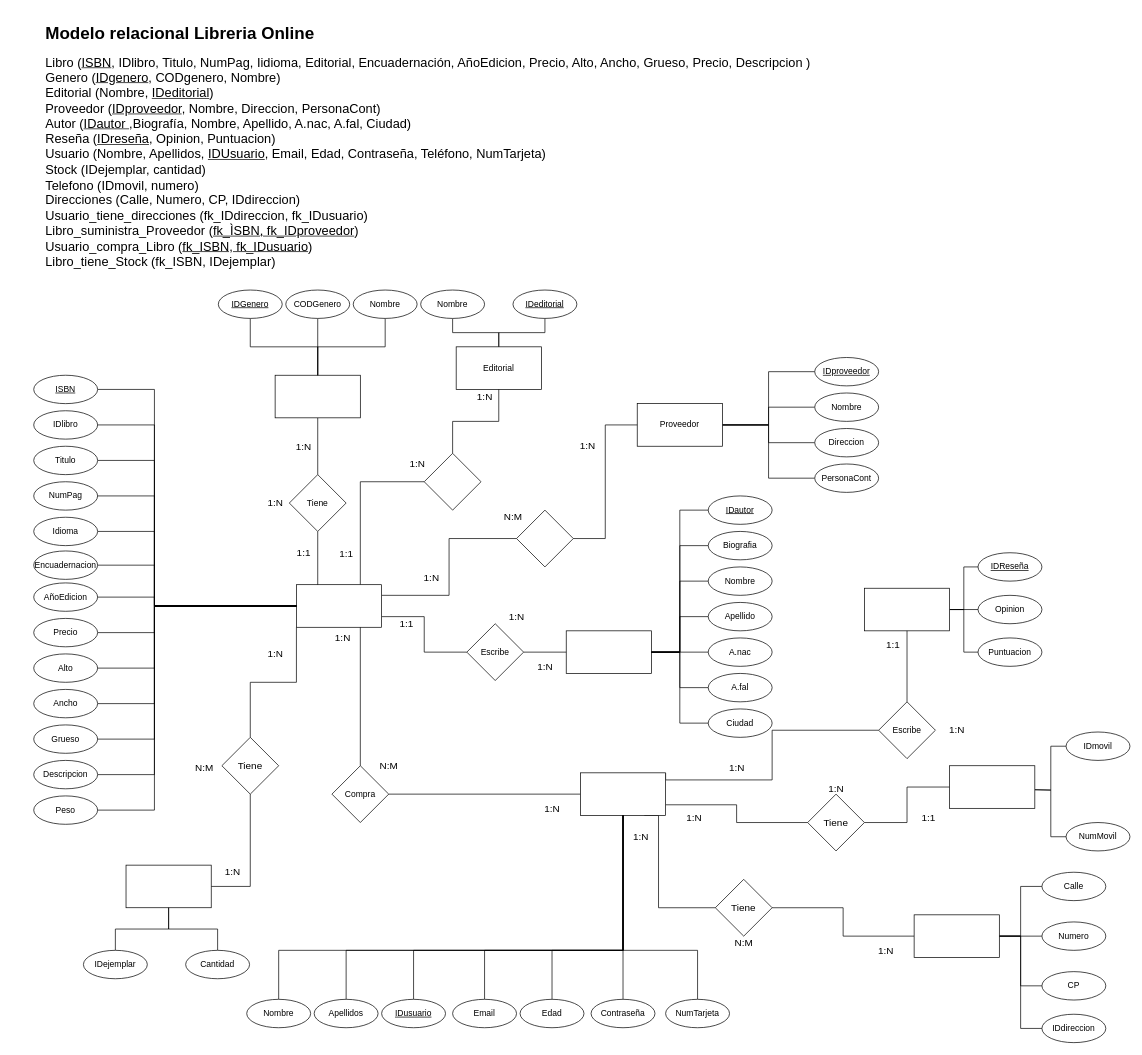
The diagram is 1142 pixels wide and 1055 high, and some of its shapes have lost their labels. The centre of each missing label's shape, as x and y in pixels:
"Autor" belongs at pixel 608 651.
"Direcciones" belongs at pixel 956 935.
"Edita" belongs at pixel 452 481.
"Genero" belongs at pixel 317 396.
"Libro" belongs at pixel 339 605.
"Móvil" belongs at pixel 992 786.
"Reseña" belongs at pixel 907 609.
"Stock" belongs at pixel 168 886.
"Suministra" belongs at pixel 544 538.
"Usuario" belongs at pixel 623 793.
